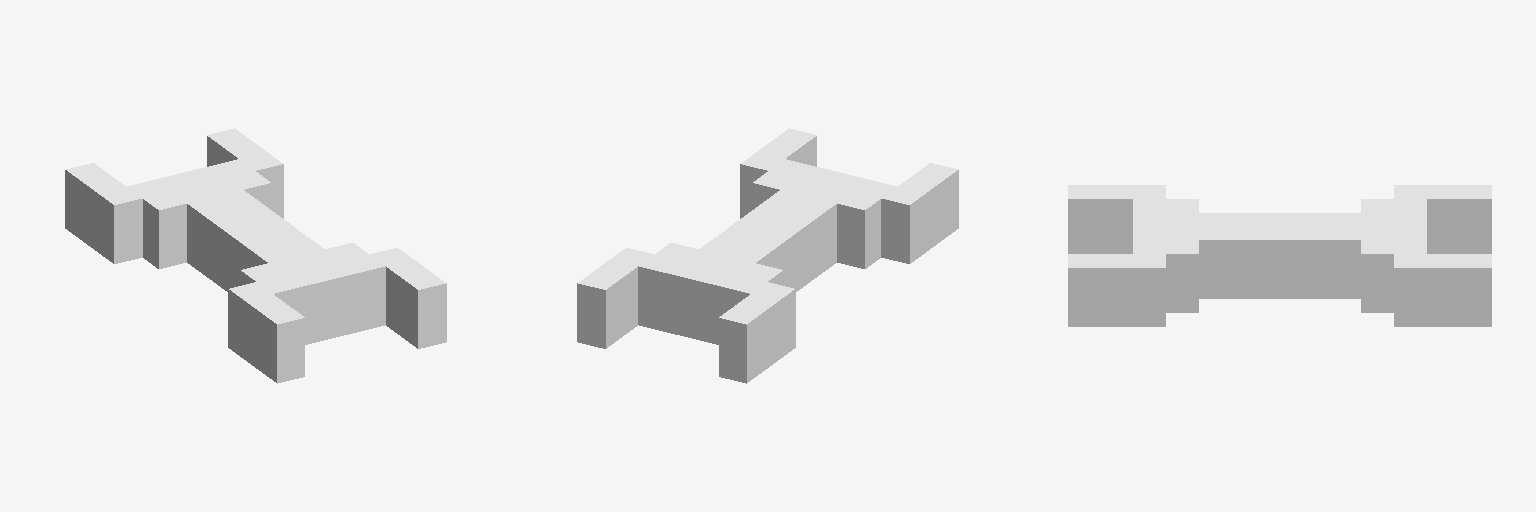
The model's file is lvl1-14.obj.
3 views of the same model, side by side, from view 1: azimuth 30°, elevation 25°; view 2: azimuth 150°, elevation 25°; view 3: azimuth 270°, elevation 25° (orthographic).
Visible parts, largest first — view 1: object 1; view 2: object 1; view 3: object 1.
Part boxes in pixels (left/top/right/bottom): object 1: left=65, top=128, right=446, bottom=383; object 1: left=577, top=128, right=958, bottom=383; object 1: left=1068, top=185, right=1491, bottom=326.
Bounding box in the file's own units: 0.6 × 0.2 × 1.3.